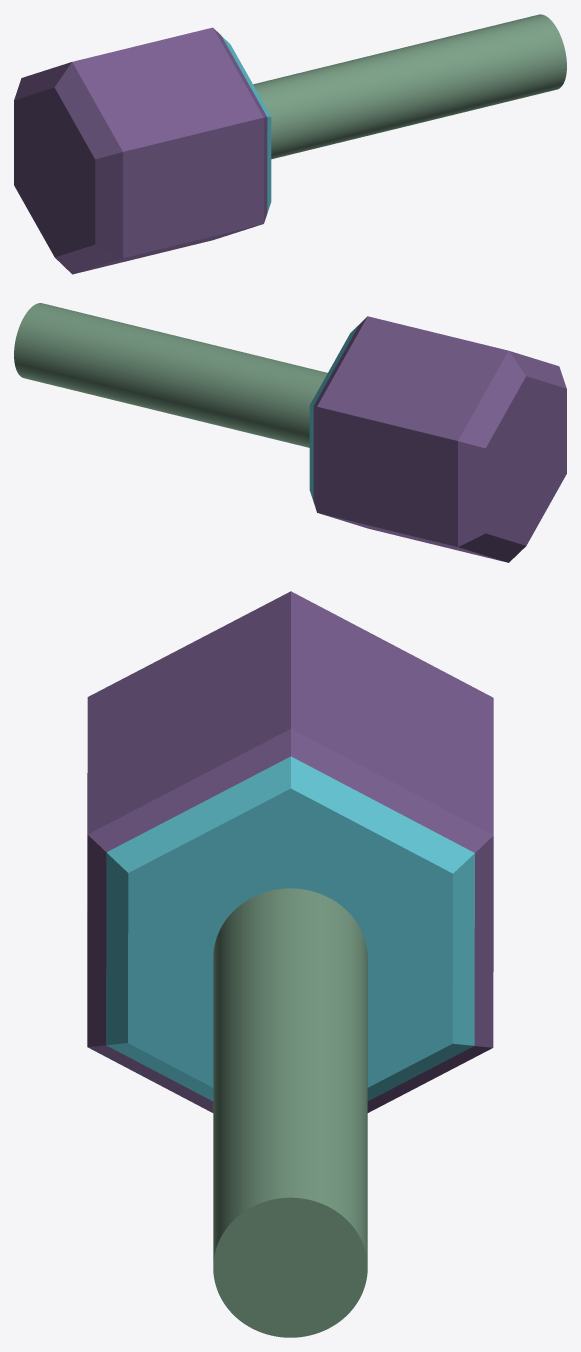
Rendered from 4_canonical.obj.
3 views of the same model, one above another, from view 1: azimuth 30°, elevation 25°; view 2: azimuth 150°, elevation 25°; view 3: azimuth 270°, elevation 25° (orthographic). The views are drawn at different scales.
Parts seen in each view (by area): view 1: geometry_1, geometry_0, geometry_2; view 2: geometry_1, geometry_0, geometry_2; view 3: geometry_1, geometry_2, geometry_0.
Boxes of the visible parts, x1,y1,x2,y2 form: geometry_1: (14, 27, 267, 274); geometry_0: (253, 14, 566, 159); geometry_2: (221, 36, 271, 212); geometry_1: (313, 316, 566, 562); geometry_0: (14, 303, 327, 447); geometry_2: (309, 325, 358, 501); geometry_1: (87, 591, 493, 1112); geometry_2: (106, 756, 474, 1101); geometry_0: (213, 888, 367, 1337).
Size of the model in its own units: 0.07 by 0.0288 by 0.025.
